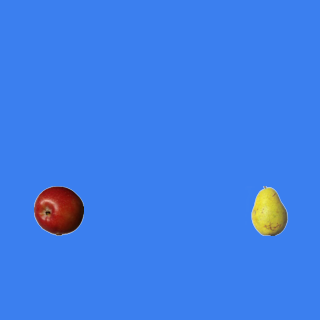Apple Braeburn: (33, 185, 83, 235)
Pear Monster: (244, 185, 294, 235)
